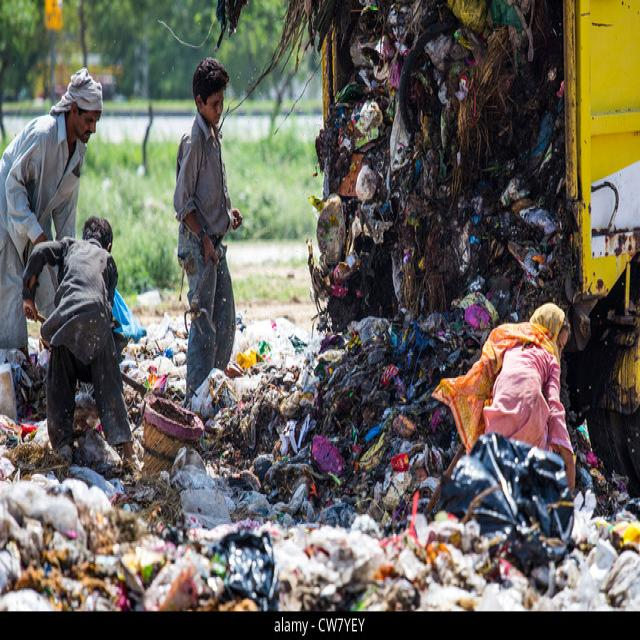trash: (321, 46, 540, 555), (4, 395, 312, 599), (553, 349, 629, 587)
